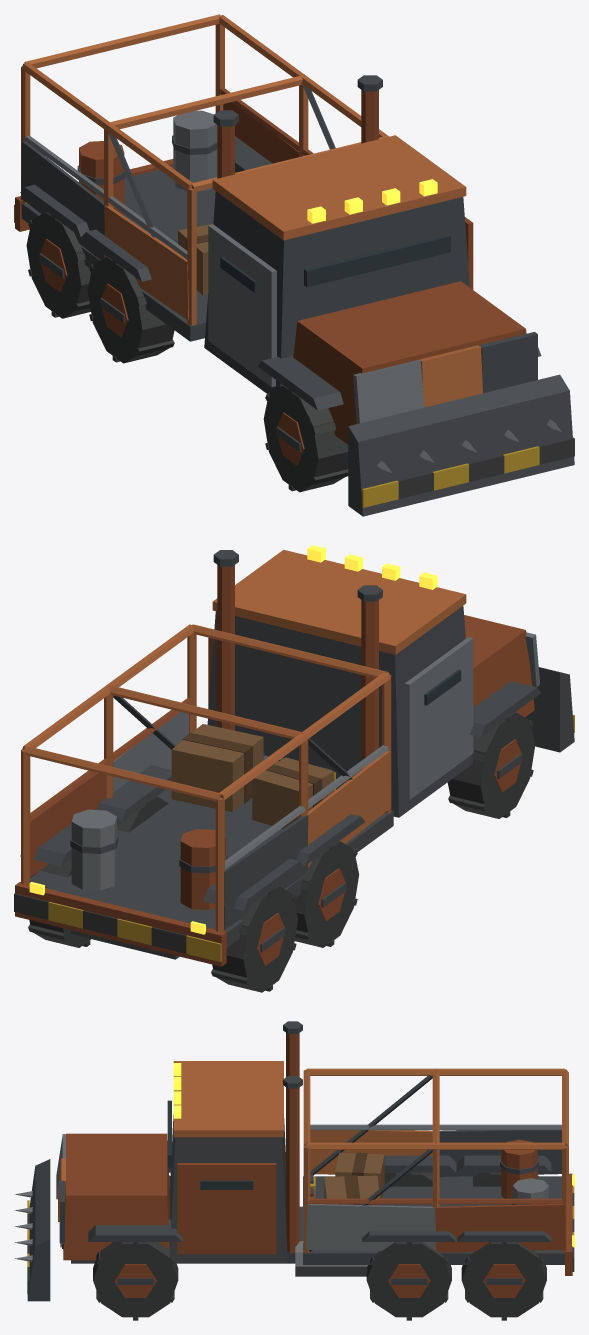
Rendered from vehicle_rig_l2.glb.
The picture shows the model from 3 angles, top to bottom: view 1: azimuth 30°, elevation 25°; view 2: azimuth 150°, elevation 25°; view 3: azimuth 270°, elevation 25°; orthographic projection. The views are drawn at different scales.
Parts seen in each view (by area): view 1: body, wheel_fr, wheel_mr, wheel_rr; view 2: body, wheel_fr, wheel_rr, wheel_mr, wheel_rl, wheel_ml; view 3: body, wheel_fl, wheel_rl, wheel_ml, wheel_mr, wheel_rr.
Part boxes in pixels (left/top/right/bottom): body: left=14, top=14, right=574, bottom=516; wheel_fr: left=263, top=385, right=348, bottom=492; wheel_mr: left=87, top=256, right=174, bottom=363; wheel_rr: left=26, top=212, right=90, bottom=318; body: left=14, top=545, right=574, bottom=966; wheel_fr: left=447, top=712, right=535, bottom=818; wheel_rr: left=211, top=886, right=297, bottom=992; wheel_mr: left=294, top=841, right=359, bottom=947; wheel_rl: left=28, top=858, right=90, bottom=947; wheel_ml: left=117, top=796, right=168, bottom=832; body: left=14, top=1021, right=574, bottom=1301; wheel_fl: left=93, top=1242, right=178, bottom=1320; wheel_rl: left=461, top=1242, right=546, bottom=1320; wheel_ml: left=366, top=1242, right=451, bottom=1320; wheel_mr: left=384, top=1172, right=440, bottom=1186; wheel_rr: left=473, top=1172, right=538, bottom=1186.
Bounding box in the file's own units: 2.64 × 3.3 × 7.38.
